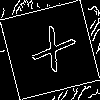X: (25, 25, 77, 81)
